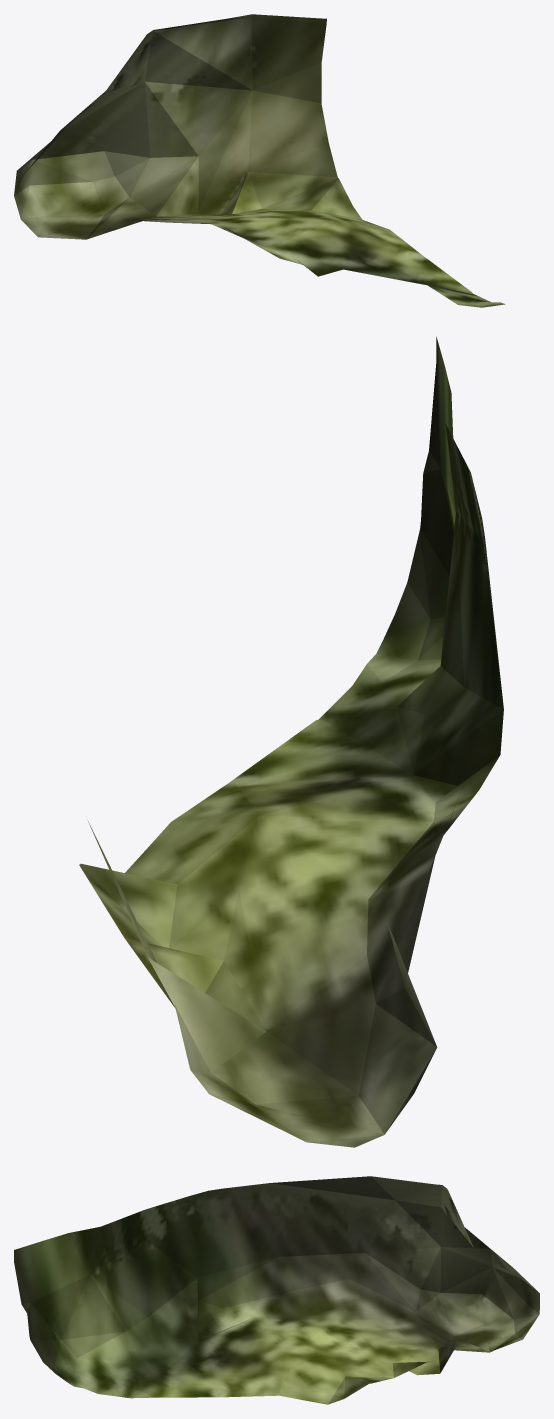
3 views of the same model, one above another, from view 1: azimuth 30°, elevation 25°; view 2: azimuth 150°, elevation 25°; view 3: azimuth 270°, elevation 25° (orthographic). The views are drawn at different scales.
Size of the model in its own units: 0.8201 by 0.6201 by 1.68.
1 material, 1 textured.
